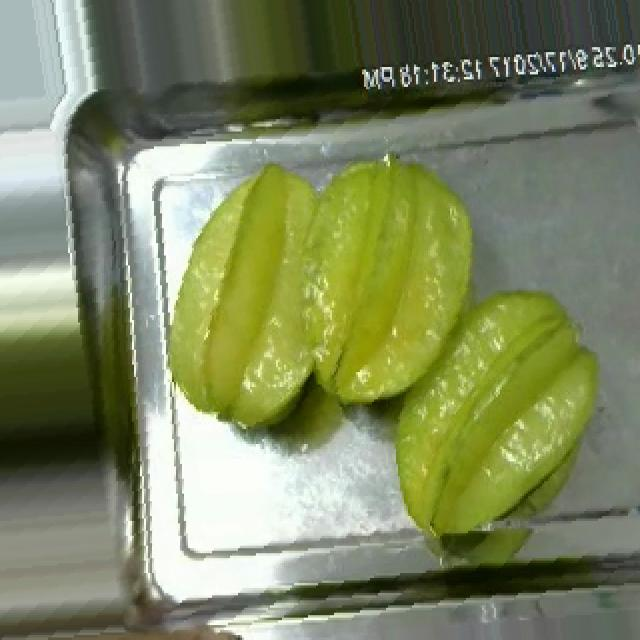fruit: (148, 139, 512, 441), (372, 263, 620, 561)
